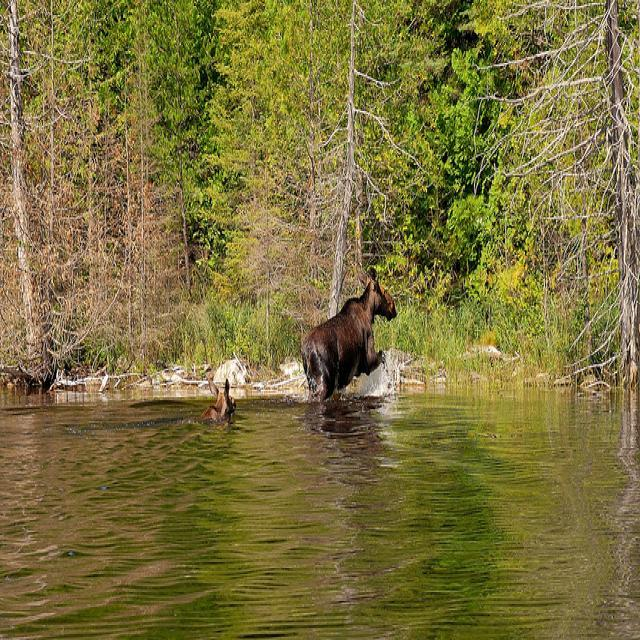cow: (297, 267, 398, 405)
